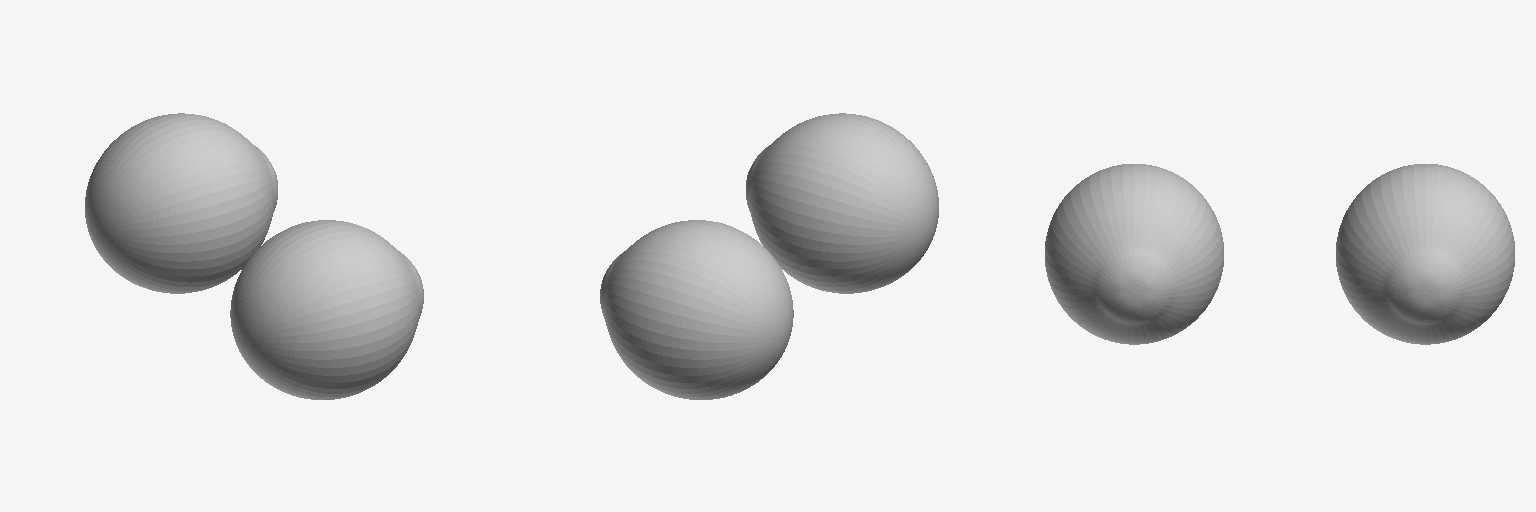
Rendered from eyes.obj.
3 renders of one model, left to right at view 1: azimuth 30°, elevation 25°; view 2: azimuth 150°, elevation 25°; view 3: azimuth 270°, elevation 25°, orthographic.
Parts seen in each view (by area): view 1: Left_Eye_Sphere, Right_Eye_Sphere.003; view 2: Right_Eye_Sphere.003, Left_Eye_Sphere; view 3: Right_Eye_Sphere.003, Left_Eye_Sphere.
Part boxes in pixels (x1,y1,x2,y2): Left_Eye_Sphere: (230,220,423,399); Right_Eye_Sphere.003: (85,113,277,293); Right_Eye_Sphere.003: (600,220,793,399); Left_Eye_Sphere: (746,113,938,293); Right_Eye_Sphere.003: (1336,164,1514,344); Left_Eye_Sphere: (1045,164,1223,344).
Size of the model in its own units: 5.01 by 4.46 by 11.67.